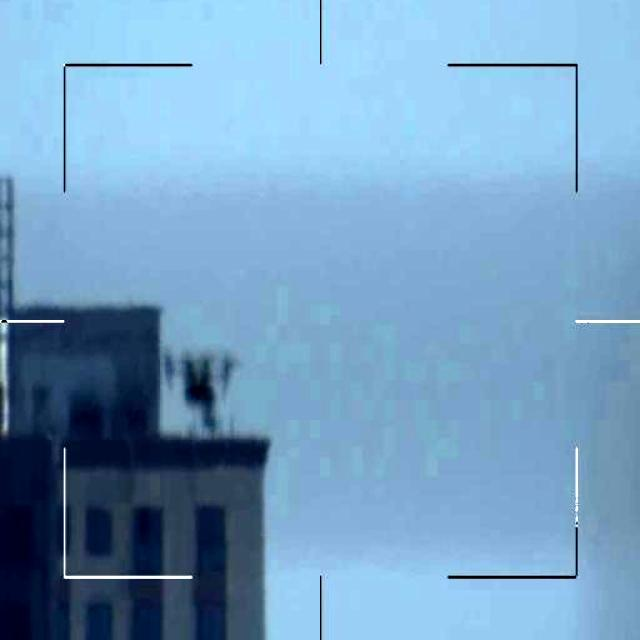bird: (162, 350, 235, 436)
